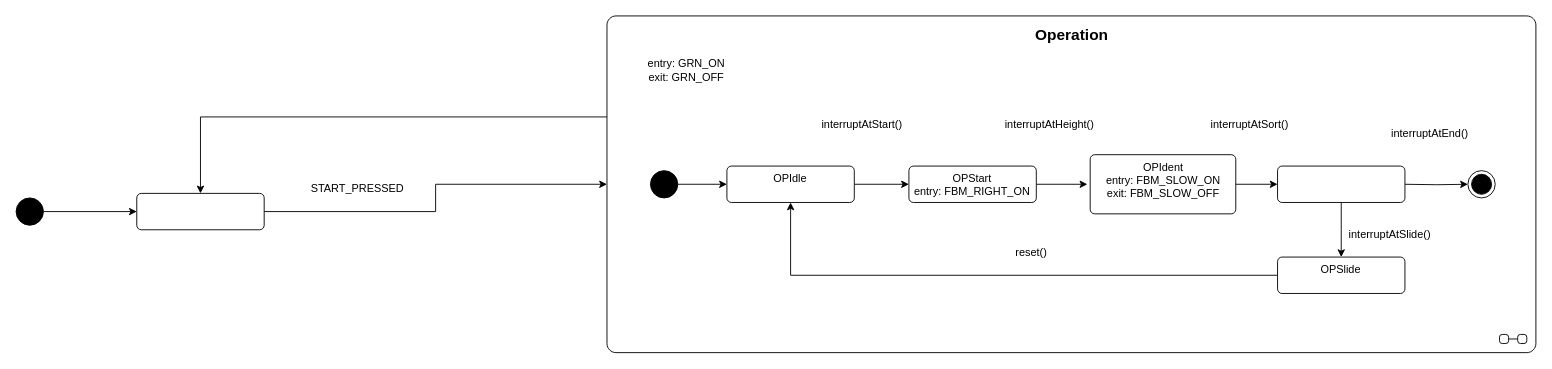
This 1552x369 diagram has some shape labels left out. The shapes that lost their labels are listed below. From the top down, each one's box as (x1, y1, x2, y2) in pixels, then its label:
(1277, 165, 1405, 202): OPSort
(136, 192, 264, 230): Initial
